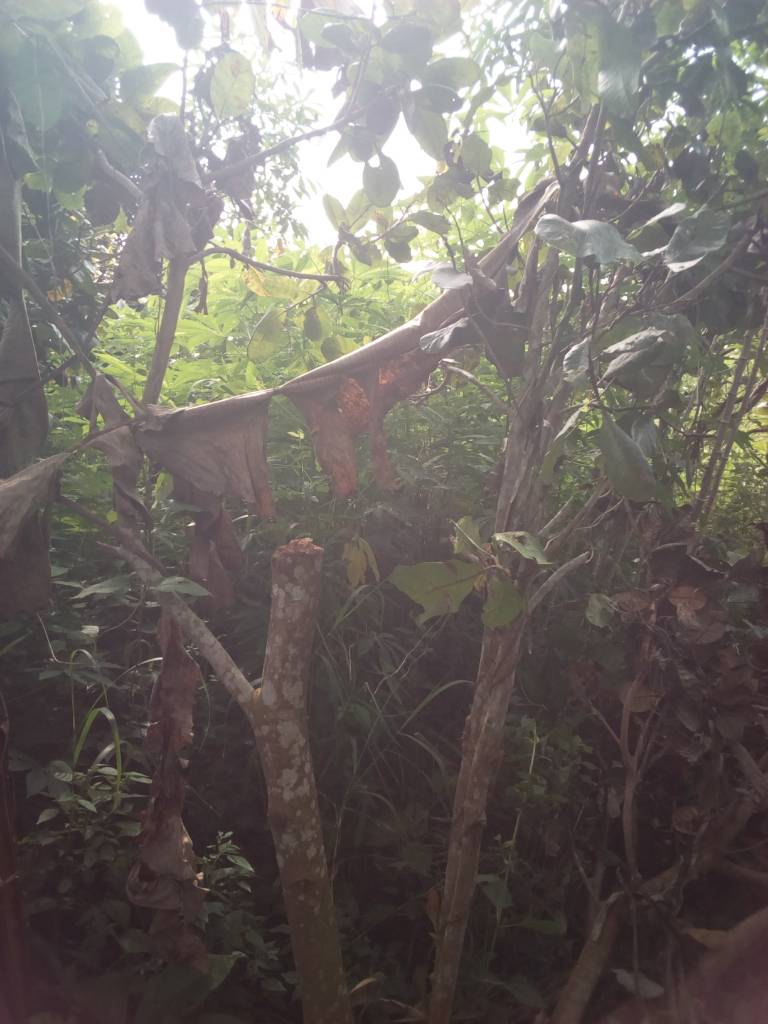Analepse trifasciata: (260, 532, 343, 594)
